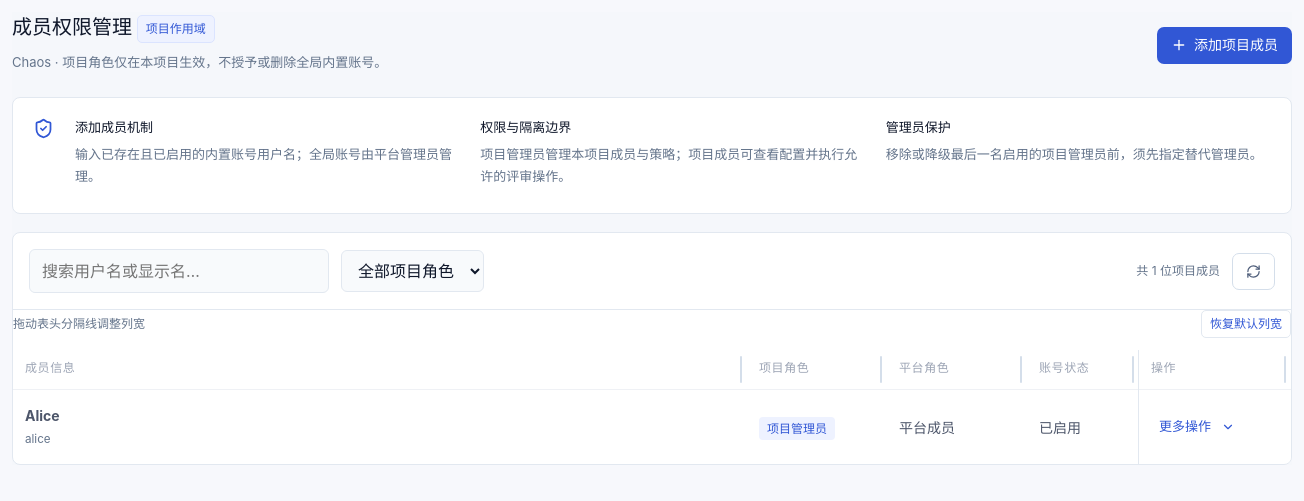
Test case: loads and filters real members while distinguishing project role from platform role
Expected: the text "Alice" is shown, x1=25 y1=407 x2=60 y2=424
Expected: the text "平台成员" is shown, x1=887 y1=389 x2=1027 y2=464
Type "nobody" into the search field at (179, 271), box x1=29 y1=249 x2=329 y2=293
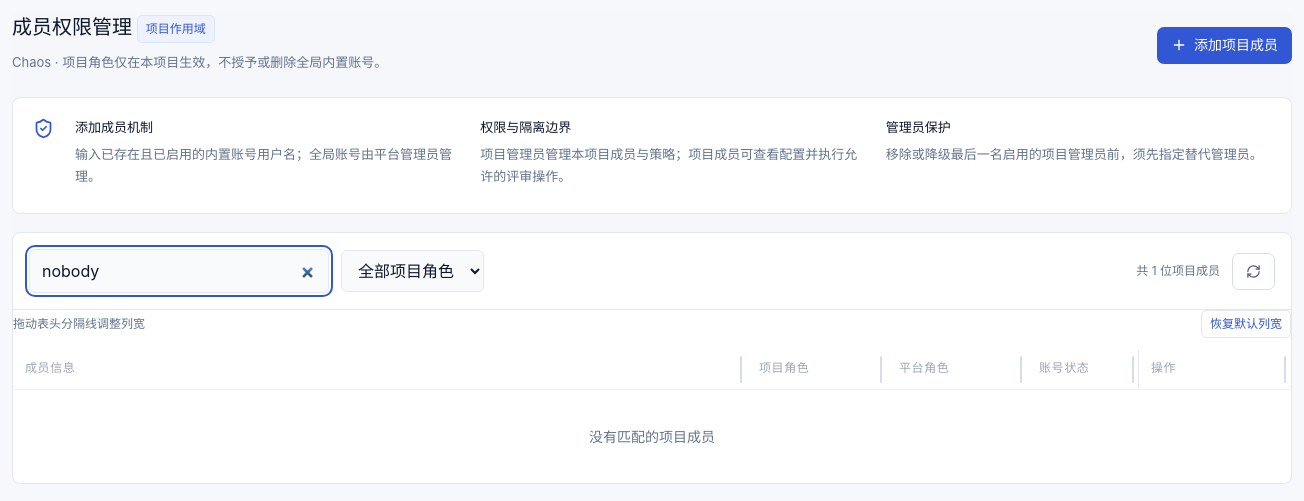
Result: the text "没有匹配的项目成员" is shown at x1=13 y1=389 x2=1291 y2=483
Clear the search field at (179, 271), box x1=29 y1=249 x2=329 y2=293
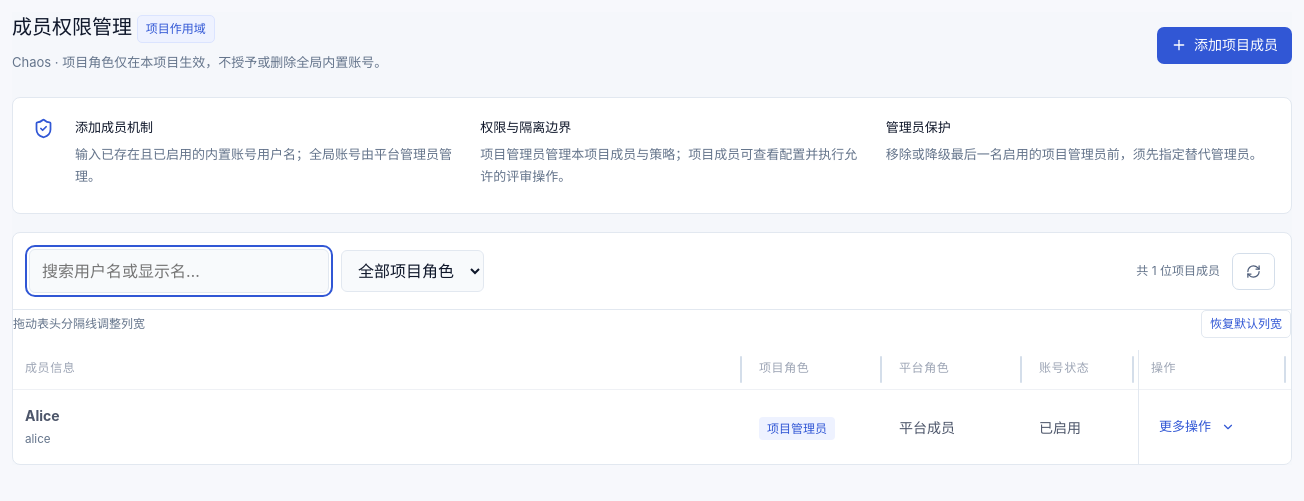
Select "项目成员" in the dropdown named "筛选项目角色" at (412, 271), box x1=341 y1=250 x2=484 y2=292
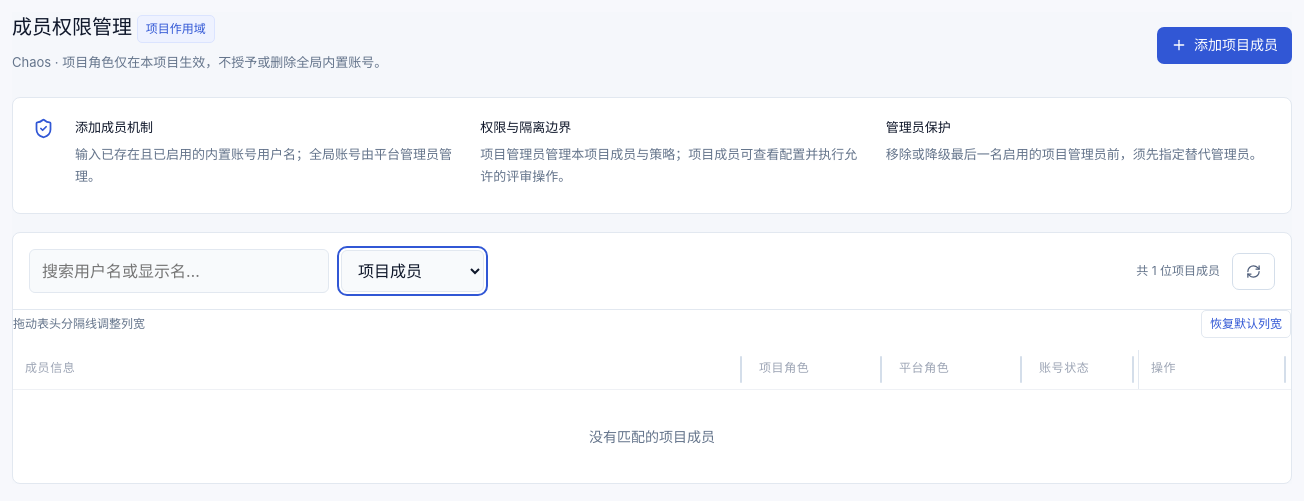
Result: the text "Alice" is gone
